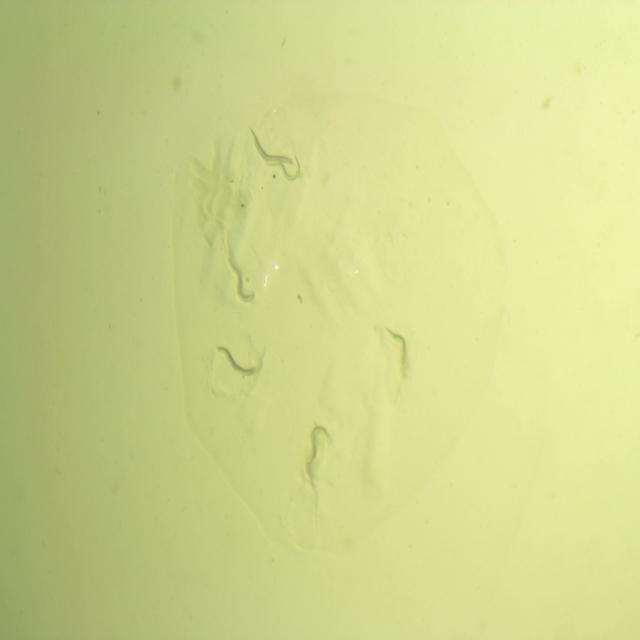worm: (247, 123, 296, 170), (213, 340, 267, 380), (301, 420, 331, 488), (382, 322, 410, 380), (259, 152, 303, 184), (228, 261, 257, 305)
